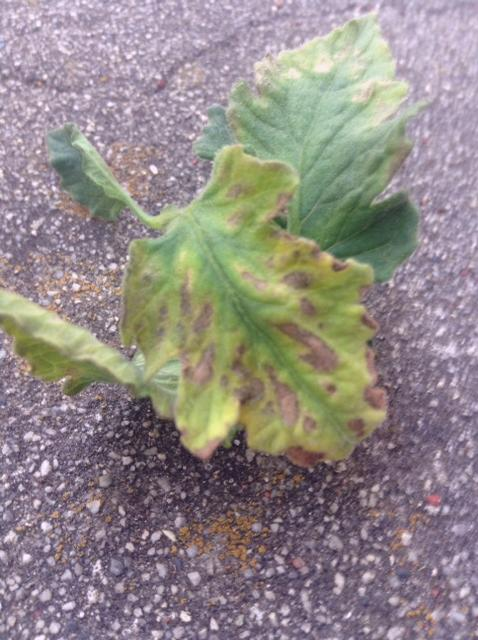Tomato mold leaf: (109, 147, 388, 491)
